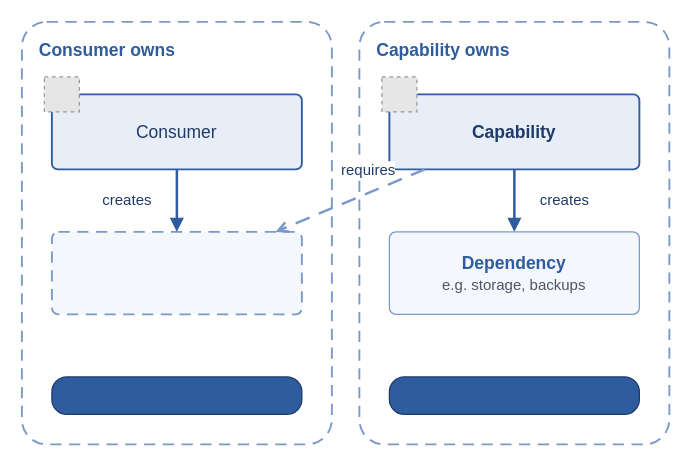
Some shapes in this 693 by 468 pixel diagram are drawn without their labels. Grey dashed boxes stand in for pictures. The shapes that lost their labels are listed below. From the top down, each one's centre as x and y in pixels, then its label:
At pixel 176 272: "Prerequisite e.g. existing network, identity".
At pixel 176 395: "consumer holds its lifecycle".
At pixel 513 395: "capability holds its lifecycle".
